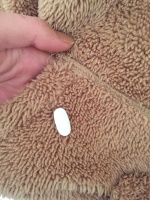Centik Buskopan: (51, 107, 73, 137)
